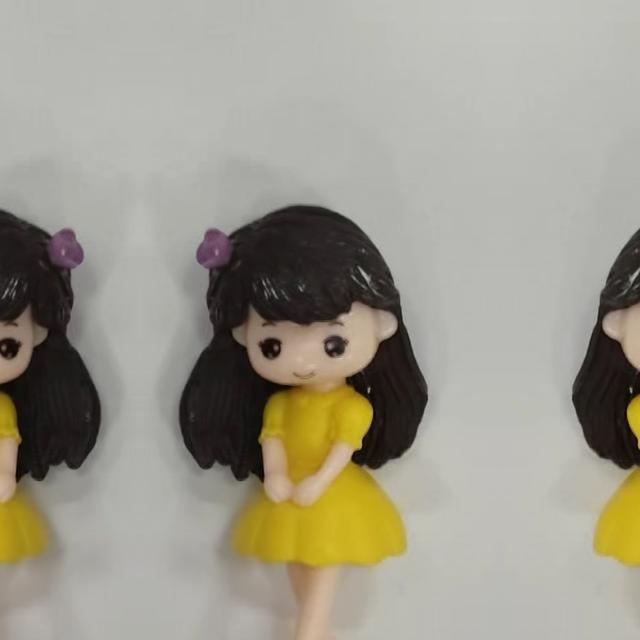woman dress: (244, 378, 404, 626), (596, 378, 640, 626), (0, 378, 36, 626)
woman head: (172, 198, 422, 416), (0, 198, 107, 416), (578, 198, 640, 416)
